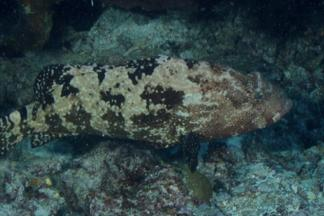Serranidae -Groupers-: (0, 54, 294, 170)
